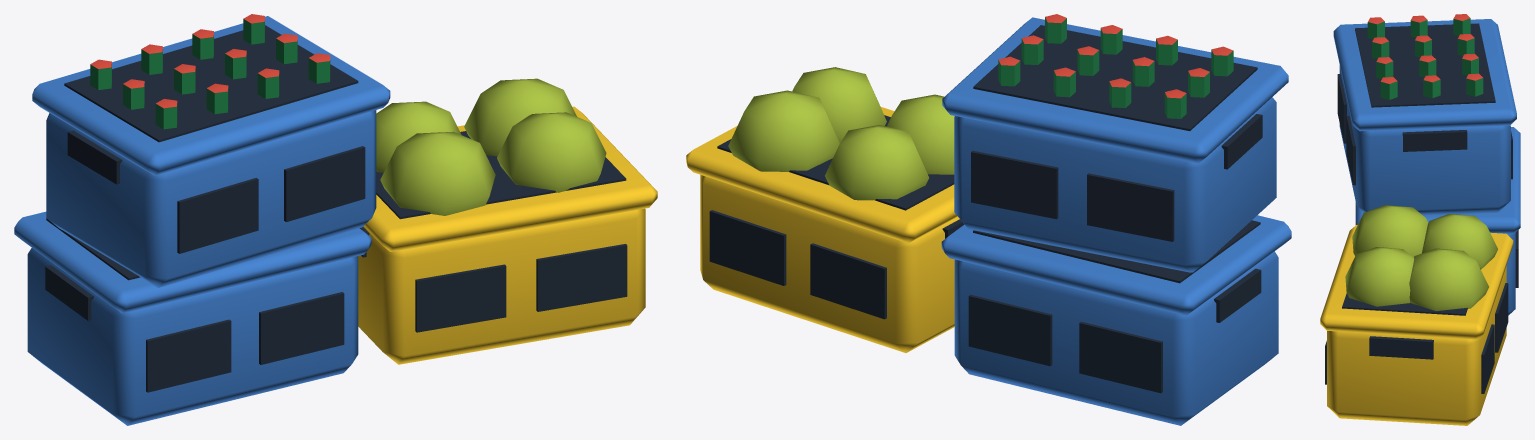
Rendered from prop_crates.glb.
The picture shows the model from 3 angles, left to right: view 1: azimuth 30°, elevation 25°; view 2: azimuth 150°, elevation 25°; view 3: azimuth 270°, elevation 25°; orthographic projection. The views are drawn at different scales.
Visible parts, largest first — view 1: prop_crates; view 2: prop_crates; view 3: prop_crates.
Part boxes in pixels (x1,y1,x2,y2): prop_crates: (14,14,657,425); prop_crates: (686,14,1291,425); prop_crates: (1320,14,1520,425).
Bounding box in the file's own units: 1.11 × 0.608 × 0.4664.
